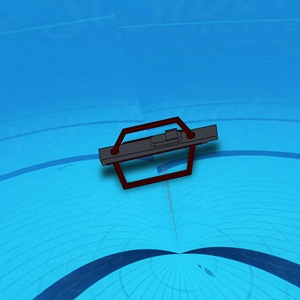submarine: (100, 111, 228, 186)
